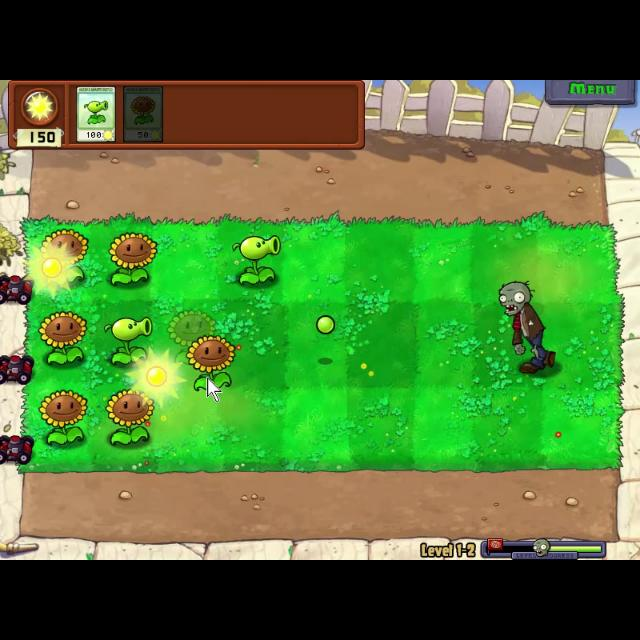Garden: (17, 218, 619, 472)
Menu Button: (542, 80, 640, 106)
Mower: (1, 350, 34, 386), (0, 271, 34, 305), (0, 434, 34, 468)
Peashooter: (76, 84, 118, 144)
Peashooter Seed: (229, 232, 287, 290), (98, 311, 152, 367)
Seed Panel: (6, 80, 366, 150)
Sun: (130, 348, 180, 400), (27, 243, 75, 290)
Sunflower: (121, 86, 165, 148)
Sunflower Seed: (185, 334, 243, 400), (100, 387, 158, 449), (36, 390, 94, 450), (104, 228, 158, 288), (35, 307, 85, 369), (42, 228, 88, 286)
Zombie: (494, 280, 558, 378)
